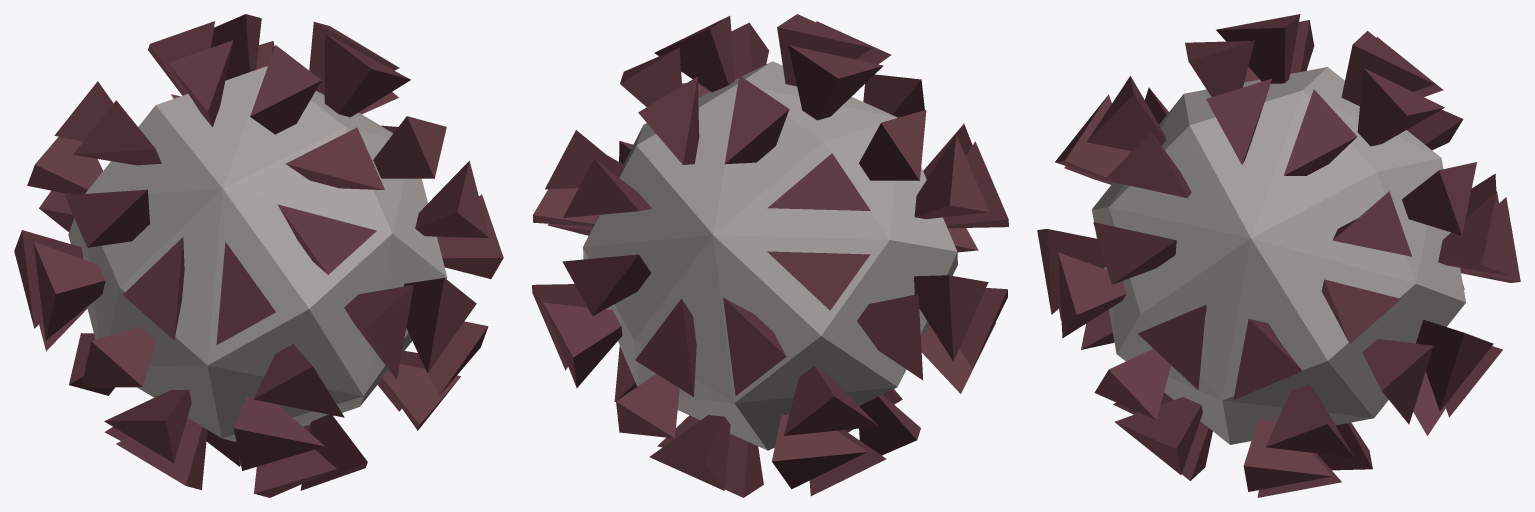
Rendered from covid.fbx.
The picture shows the model from 3 angles, left to right: view 1: azimuth 30°, elevation 25°; view 2: azimuth 150°, elevation 25°; view 3: azimuth 270°, elevation 25°; orthographic projection.
Parts seen in each view (by area): view 1: covid; view 2: covid; view 3: covid.
Boxes of the visible parts, x1,y1,x2,y2 form: covid: [14, 14, 503, 497]; covid: [532, 14, 1008, 497]; covid: [1037, 14, 1520, 497].
Size of the model in its own units: 0.1069 by 0.106 by 0.1066.
